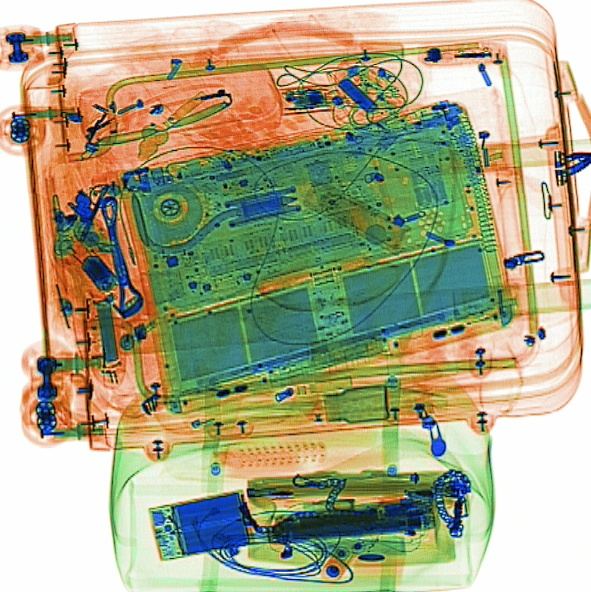powerbank: (146, 485, 254, 565)
